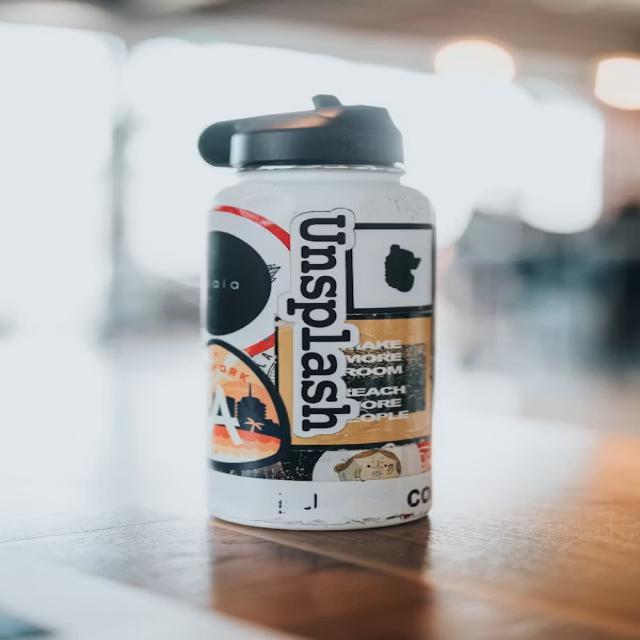Bottle: (200, 96, 434, 529)
